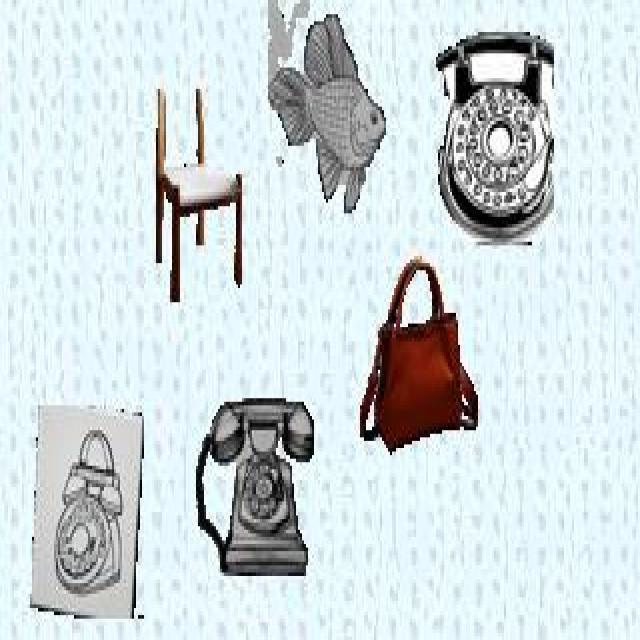Other Objects: (436, 28, 555, 246), (30, 402, 145, 620), (359, 258, 479, 453), (194, 394, 316, 576)
